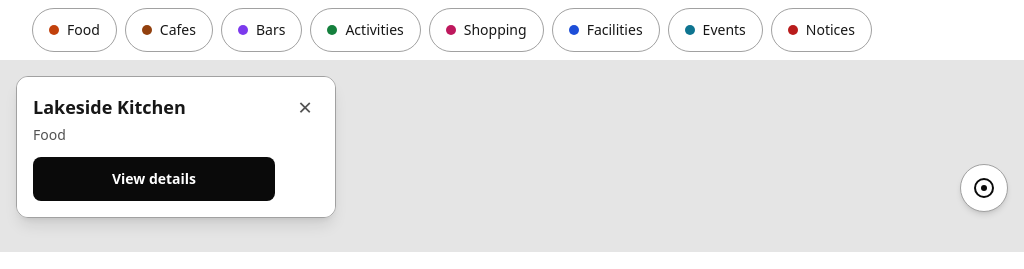
the preview shows the distance once the location is known
Expected: the text "170 m" is not shown
Click the button named "Show my location" at coordinates (984, 188), box [960,164,1008,212]
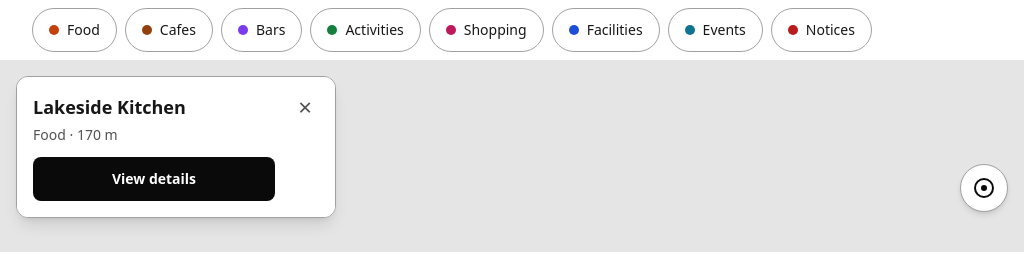
Expected: the text "170 m" is shown, [77,125,118,144]
